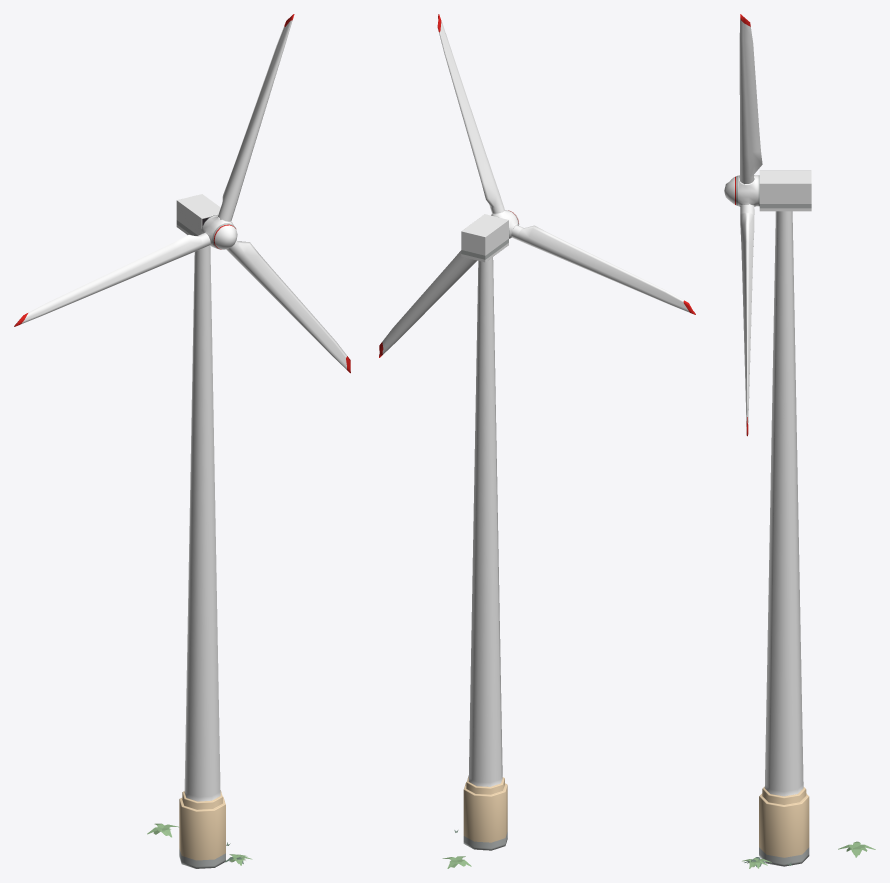
The model's file is Eolic.glb.
3 renders of one model, left to right at view 1: azimuth 30°, elevation 25°; view 2: azimuth 150°, elevation 25°; view 3: azimuth 270°, elevation 25°, orthographic. The views are drawn at different scales.
Visible parts, largest first — view 1: Cylinder.003, Cylinder.002, Cylinder.001, Cylinder, Cube, Roundcube; view 2: Cylinder.003, Cylinder.002, Cylinder, Cylinder.001, Cube; view 3: Cylinder.003, Cylinder, Cube, Cylinder.001, Roundcube.
Boxes of the visible parts, bbox=[...] form: Cylinder.003: bbox=[179, 245, 225, 868]; Cylinder.002: bbox=[14, 232, 210, 326]; Cylinder.001: bbox=[226, 240, 350, 373]; Cylinder: bbox=[217, 14, 294, 221]; Cube: bbox=[176, 194, 220, 235]; Roundcube: bbox=[201, 215, 237, 249]; Cylinder.003: bbox=[463, 257, 507, 850]; Cylinder.002: bbox=[511, 225, 695, 314]; Cylinder: bbox=[437, 14, 504, 213]; Cylinder.001: bbox=[379, 250, 477, 357]; Cube: bbox=[461, 214, 508, 262]; Cylinder.003: bbox=[759, 211, 809, 866]; Cylinder: bbox=[739, 14, 762, 184]; Cube: bbox=[759, 170, 811, 211]; Cylinder.001: bbox=[740, 204, 754, 436]; Roundcube: bbox=[724, 175, 759, 206].
Size of the model in its own units: 15.39 by 36.93 by 5.78.
Materials: 2 (2 with a texture image).
